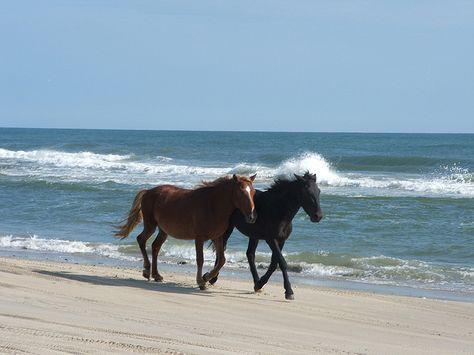horse: (110, 172, 257, 290), (205, 169, 322, 300)
